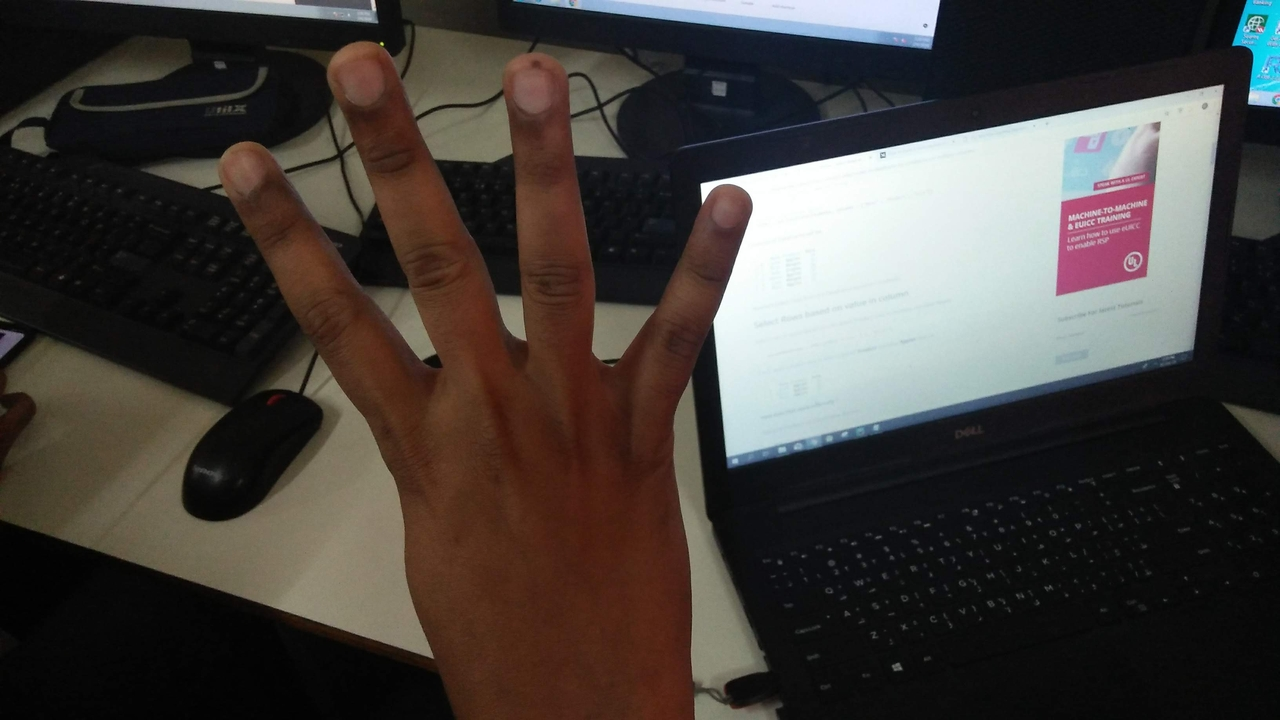fingertip: (316, 38, 396, 110), (204, 132, 280, 198), (498, 46, 572, 112), (696, 182, 758, 240)
